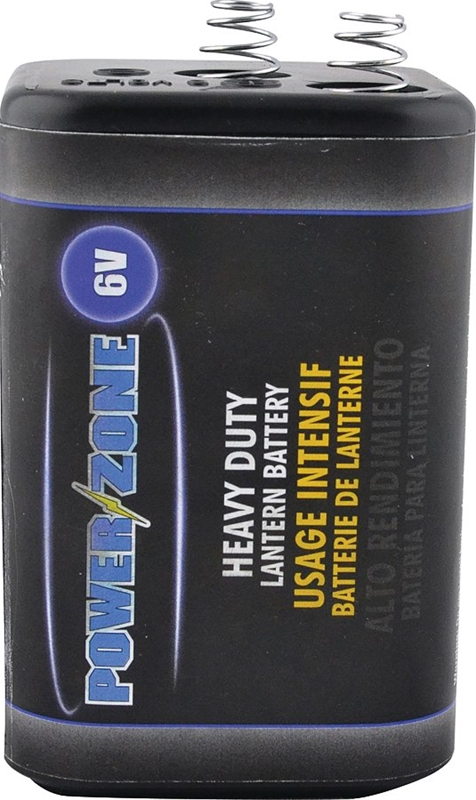6V: (25, 12, 459, 790)
